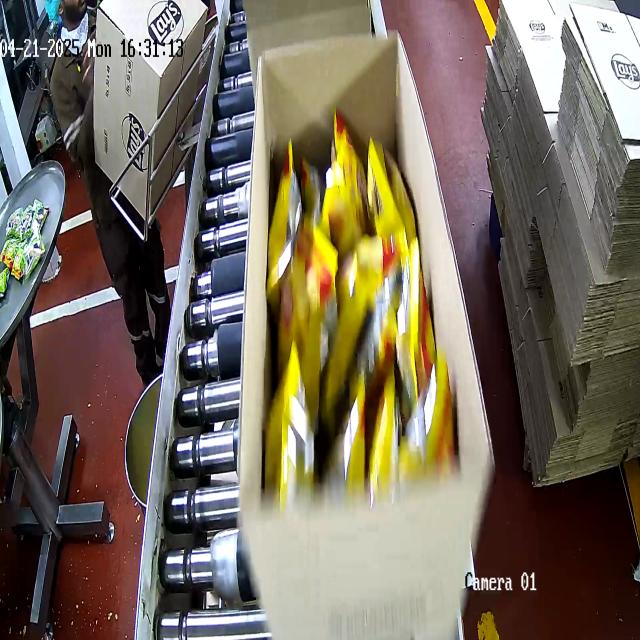SALTED: (266, 113, 472, 469)
